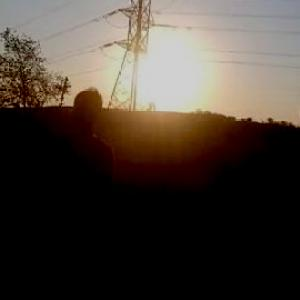follow: (31, 81, 118, 299)
